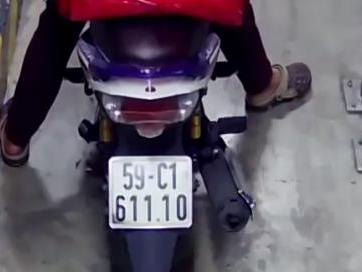num_plate: (108, 155, 194, 228)
